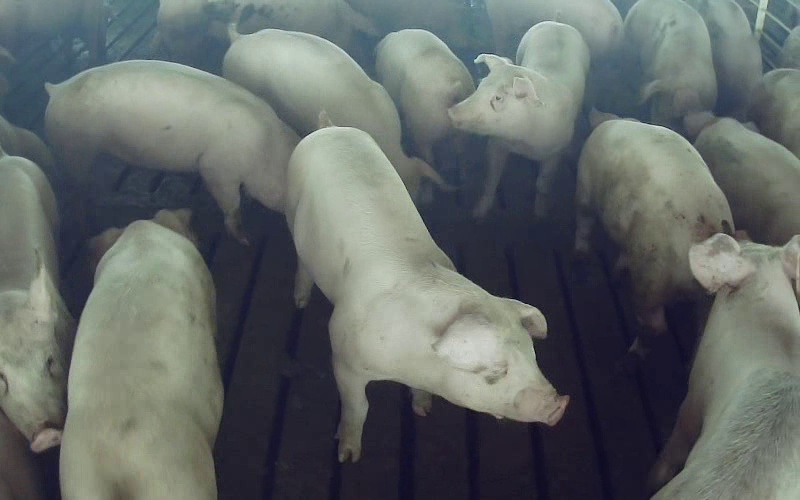pig: (286, 127, 567, 458), (60, 210, 222, 499), (45, 60, 298, 239), (651, 234, 799, 499), (575, 112, 733, 353), (223, 23, 442, 192), (449, 21, 589, 217), (683, 112, 799, 244), (376, 29, 474, 163), (624, 0, 716, 125)
